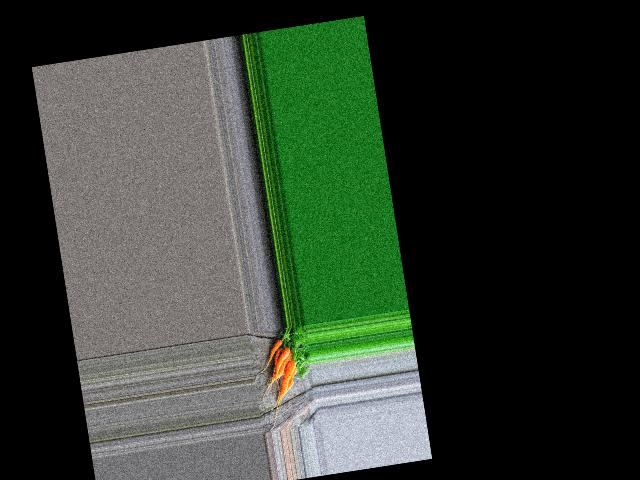carrot: (273, 355, 301, 398)
